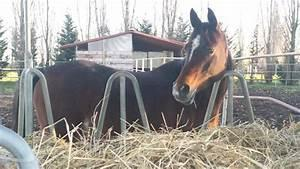horse: (31, 7, 234, 143)
